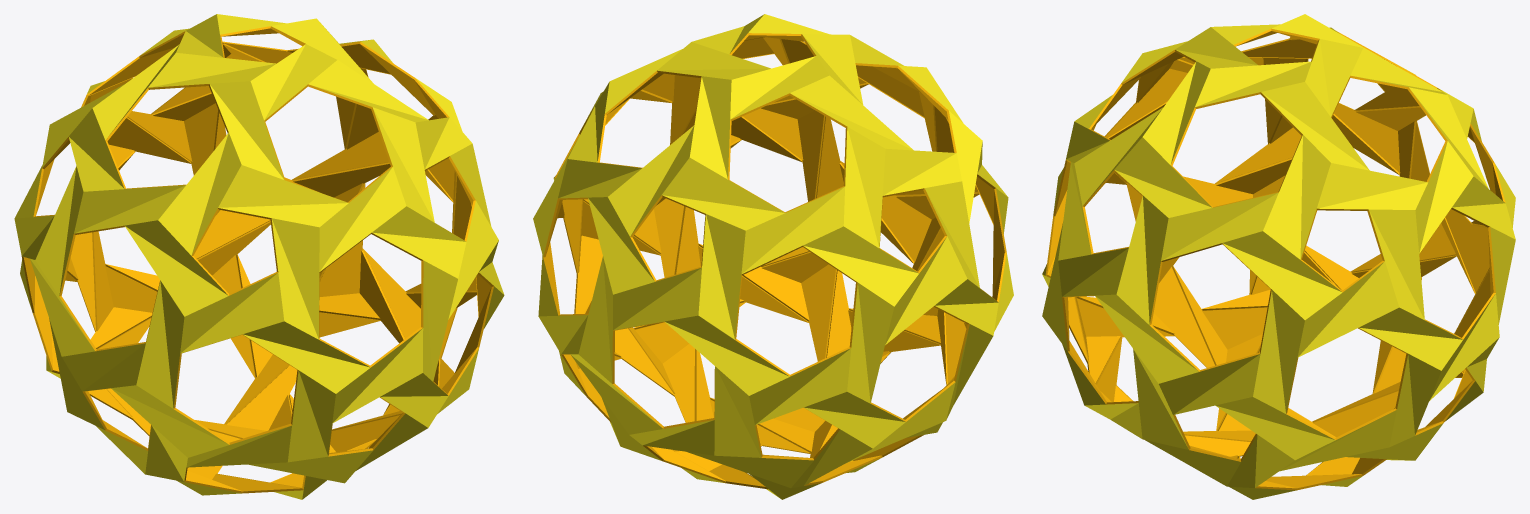
File: TruncatedIcosahedron.glb
The picture shows the model from 3 angles, left to right: view 1: azimuth 30°, elevation 25°; view 2: azimuth 150°, elevation 25°; view 3: azimuth 270°, elevation 25°; orthographic projection.
Visible parts, largest first — view 1: root; view 2: root; view 3: root.
Part boxes in pixels (box(x1,y1,x2,y2)): root: box(14, 14, 504, 499); root: box(533, 14, 1013, 499); root: box(1042, 14, 1515, 499).
Size of the model in its own units: 8.74 by 8.38 by 8.6.
